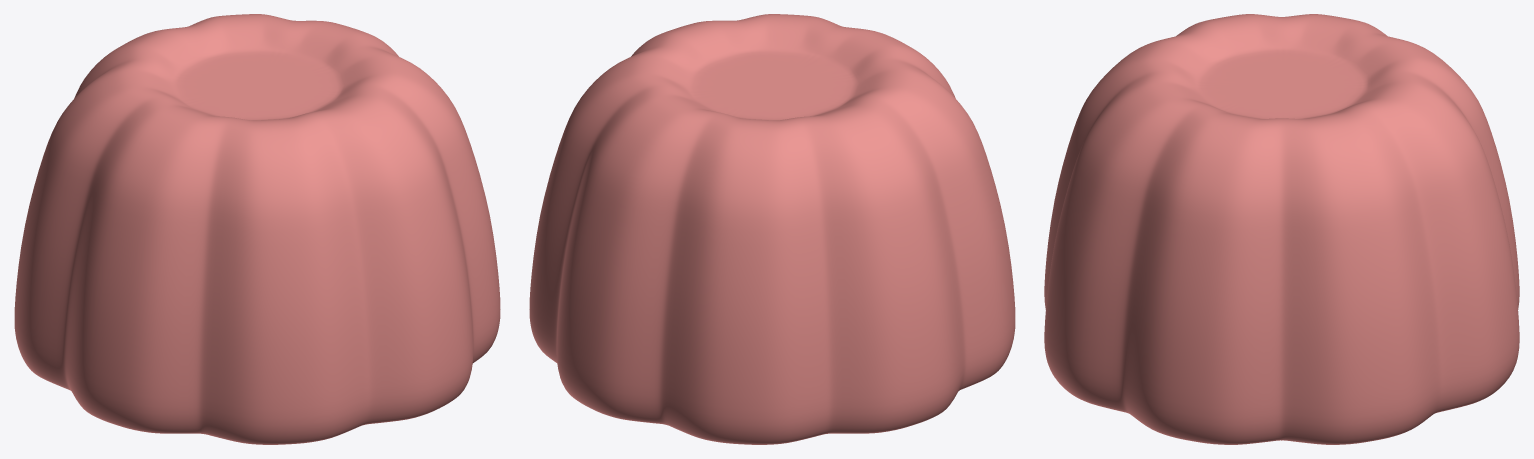
The picture shows the model from 3 angles, left to right: view 1: azimuth 30°, elevation 25°; view 2: azimuth 150°, elevation 25°; view 3: azimuth 270°, elevation 25°; orthographic projection.
Parts seen in each view (by area): view 1: Circle; view 2: Circle; view 3: Circle.
Boxes of the visible parts, x1=… form: Circle: x1=14, y1=14, x2=500, y2=444; Circle: x1=529, y1=14, x2=1015, y2=444; Circle: x1=1044, y1=14, x2=1519, y2=444.
Size of the model in its own units: 194 by 126 by 194.
